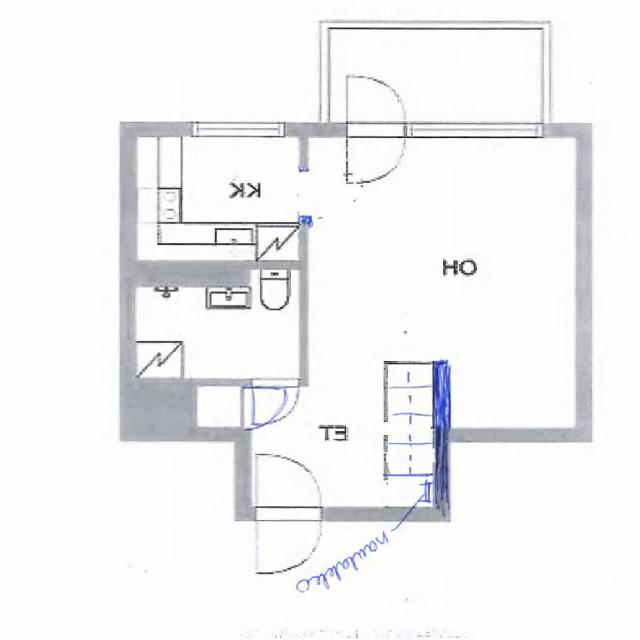door: (257, 507, 321, 574), (257, 454, 321, 521), (346, 73, 405, 137), (346, 122, 405, 186), (243, 388, 298, 426), (254, 379, 298, 423)
